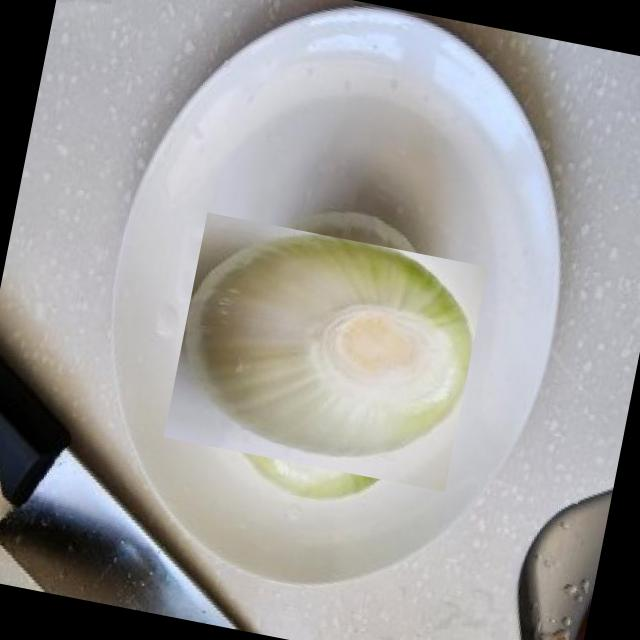Onion: (174, 202, 476, 504)
